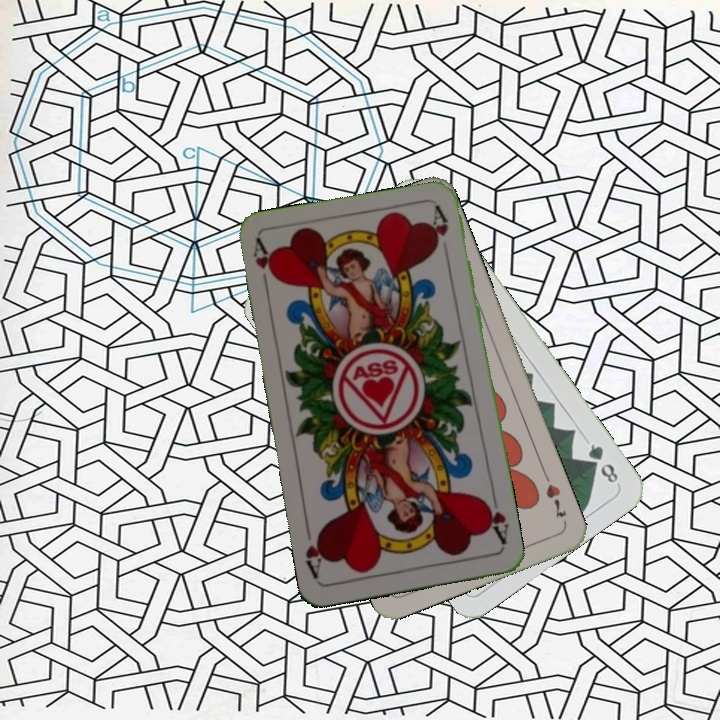G8: (583, 439, 621, 486)
H7: (539, 469, 570, 522)
HA: (248, 236, 280, 295), (479, 490, 511, 547)
